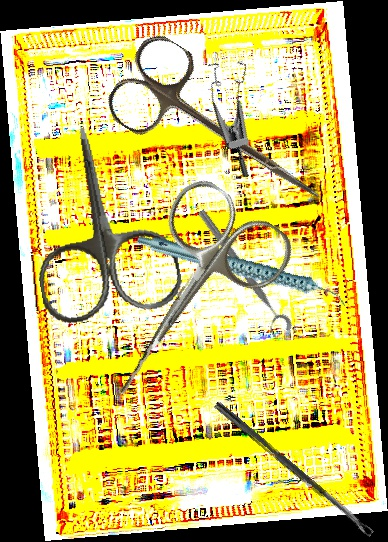Fixation Ring: (187, 206, 295, 341)
Handpiece: (136, 194, 349, 347)
Iris Scissors: (99, 28, 348, 234), (97, 170, 303, 385), (14, 114, 186, 328)
Speculum: (188, 49, 293, 179)
Surgical Spoon: (212, 400, 375, 539)
Tissue Forceps: (117, 271, 200, 399)
